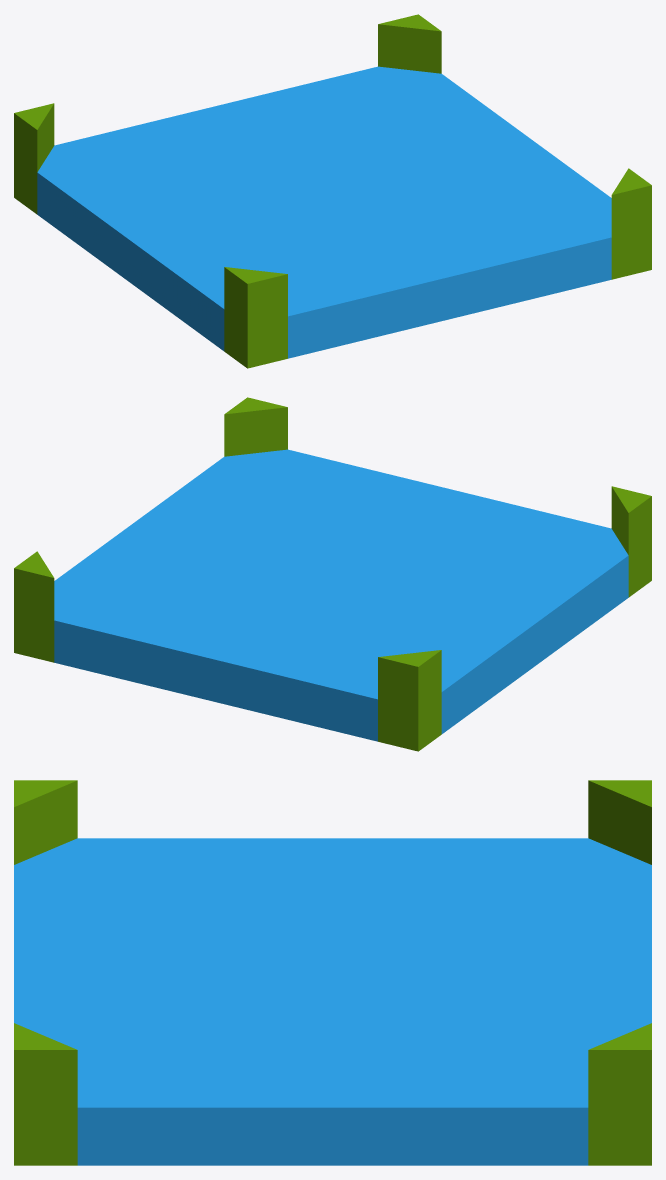
File: TileWater_15.fbx
The picture shows the model from 3 angles, top to bottom: view 1: azimuth 30°, elevation 25°; view 2: azimuth 150°, elevation 25°; view 3: azimuth 270°, elevation 25°; orthographic projection. The views are drawn at different scales.
Visible parts, largest first — view 1: TileWater_15; view 2: TileWater_15; view 3: TileWater_15.
Boxes of the visible parts, box(x1,y1,x2,y2) form: TileWater_15: box(14, 14, 651, 368); TileWater_15: box(14, 397, 651, 751); TileWater_15: box(14, 780, 651, 1165).
Size of the model in its own units: 500 by 100 by 500.
